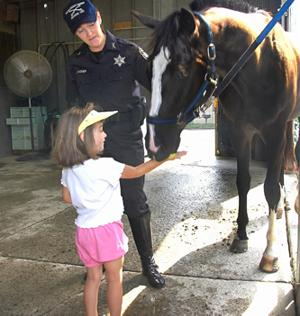person: (59, 103, 186, 316)
